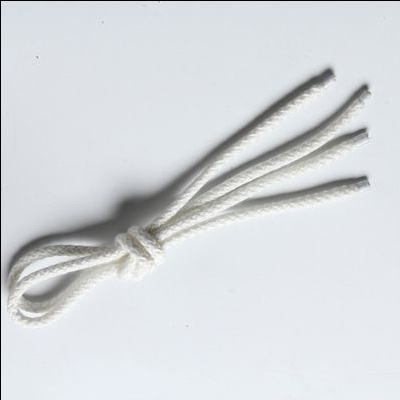9/可回收垃圾/绳子: (7, 69, 373, 326)
